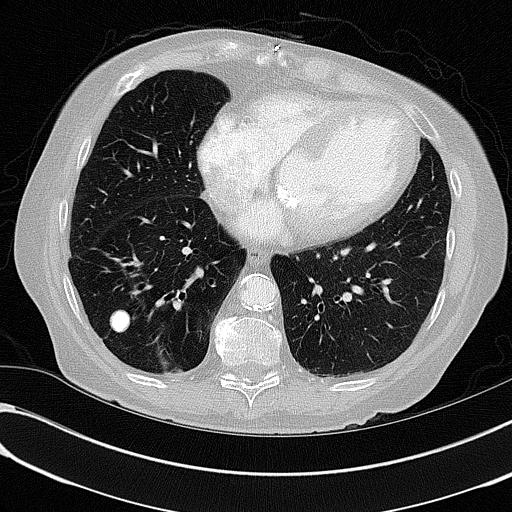nodule: (106, 308, 134, 336)
